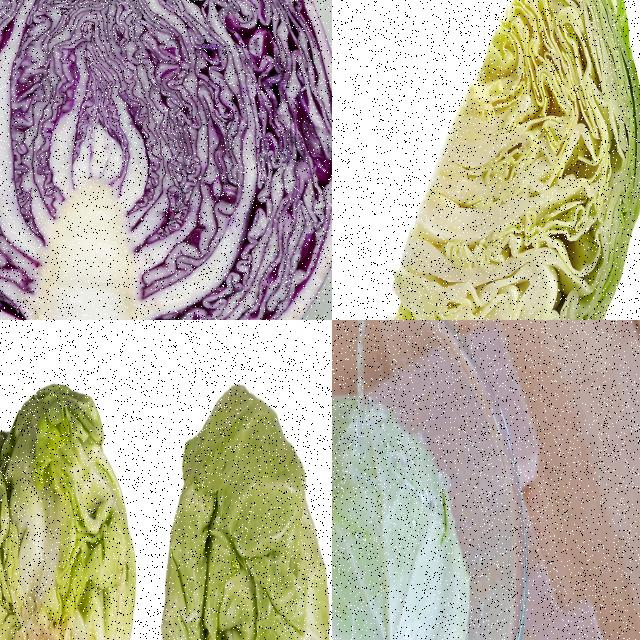cabbage: (0, 0, 331, 319), (374, 0, 639, 319), (158, 378, 331, 639), (0, 379, 139, 639), (332, 388, 472, 639)
